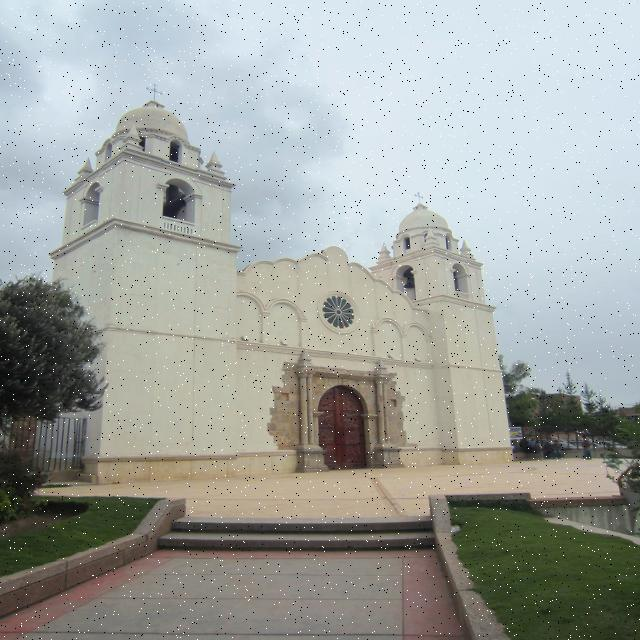CAMPANARIO: (41, 149, 244, 260), (366, 250, 496, 300)
CUPULA: (102, 96, 198, 150), (394, 199, 458, 244)
PORTADA CENTRAL: (307, 376, 395, 471)
TORRES: (38, 90, 276, 488), (394, 182, 535, 461)
colonial-architecture-: (15, 64, 562, 481)
